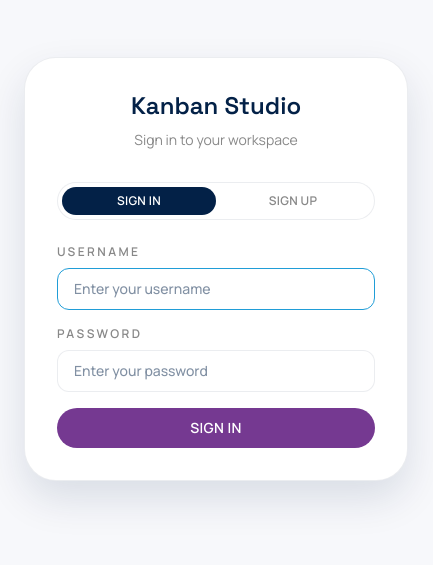
Test: LoginForm — sign up mode › switches to sign up mode and shows confirm password field
Click the button "Sign up": (293, 201) 216,187 -> 370,215
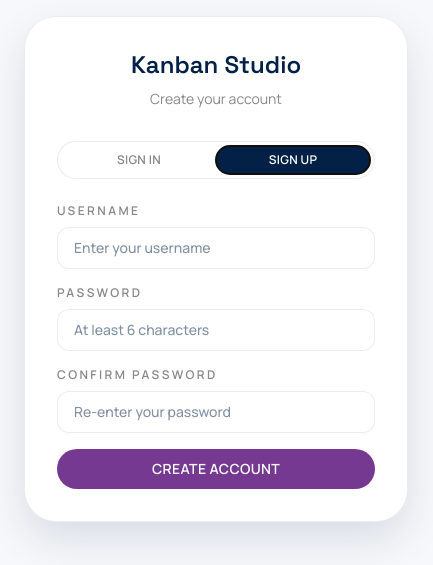
Expected: the password field labelled "Confirm Password" is shown, 57,391 -> 375,433
Expected: the button "Create account" is shown, 57,449 -> 375,489
